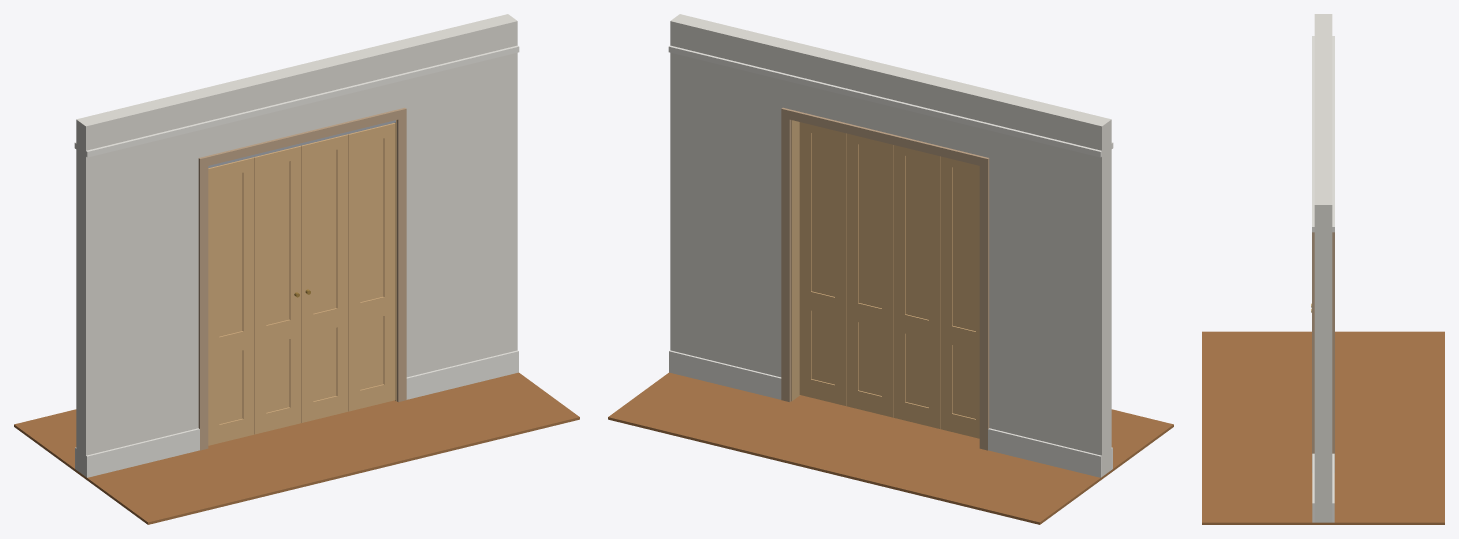
File: a-ymc4mn.glb
The picture shows the model from 3 angles, left to right: view 1: azimuth 30°, elevation 25°; view 2: azimuth 150°, elevation 25°; view 3: azimuth 270°, elevation 25°; orthographic projection. The views are drawn at different scales.
Visible parts, largest first — view 1: Room: Wall, Room: Floor, Door 4: Frame, Door 2: Frame, Door 3: Frame, Door 1: Frame, Door 1: Panel, top, Door 4: Panel, top, Door 2: Panel, top, Door 3: Panel, top, Room: Picture rail, front, Architrave, front right (+8 smaller); view 2: Room: Wall, Room: Floor, Door 4: Frame, Door 2: Frame, Door 3: Frame, Door 1: Frame, Door 1: Panel, top, Door 4: Panel, top, Door 2: Panel, top, Door 3: Panel, top, Room: Picture rail, back, Architrave, back right (+9 smaller); view 3: Room: Floor, Room: Wall, Architrave, front right, Architrave, back right, Room: Picture rail, front, Room: Picture rail, back.
Part boxes in pixels (x1=…): Room: Wall: x1=76, y1=14, x2=517, y2=476; Room: Floor: x1=14, y1=372, x2=579, y2=524; Door 4: Frame: x1=348, y1=123, x2=395, y2=411; Door 2: Frame: x1=254, y1=145, x2=301, y2=434; Door 3: Frame: x1=301, y1=134, x2=348, y2=422; Door 1: Frame: x1=208, y1=157, x2=254, y2=445; Door 1: Panel, top: x1=219, y1=172, x2=242, y2=336; Door 4: Panel, top: x1=360, y1=138, x2=383, y2=302; Door 2: Panel, top: x1=266, y1=161, x2=289, y2=324; Door 3: Panel, top: x1=313, y1=150, x2=336, y2=313; Room: Picture rail, front: x1=86, y1=45, x2=519, y2=157; Architrave, front right: x1=396, y1=117, x2=406, y2=402; Room: Wall: x1=670, y1=14, x2=1111, y2=476; Room: Floor: x1=608, y1=372, x2=1173, y2=524; Door 4: Frame: x1=799, y1=122, x2=846, y2=405; Door 2: Frame: x1=893, y1=145, x2=940, y2=428; Door 3: Frame: x1=846, y1=133, x2=893, y2=417; Door 1: Frame: x1=940, y1=156, x2=979, y2=438; Door 1: Panel, top: x1=952, y1=167, x2=975, y2=331; Door 4: Panel, top: x1=811, y1=133, x2=834, y2=296; Door 2: Panel, top: x1=905, y1=156, x2=928, y2=319; Door 3: Panel, top: x1=858, y1=144, x2=881, y2=308; Room: Picture rail, back: x1=668, y1=45, x2=1101, y2=157; Architrave, back right: x1=781, y1=117, x2=791, y2=402; Room: Floor: x1=1202, y1=331, x2=1444, y2=524; Room: Wall: x1=1314, y1=14, x2=1332, y2=522; Architrave, front right: x1=1312, y1=232, x2=1314, y2=472; Architrave, back right: x1=1332, y1=232, x2=1334, y2=472; Room: Picture rail, front: x1=1312, y1=36, x2=1314, y2=232; Room: Picture rail, back: x1=1332, y1=36, x2=1334, y2=232.
Bounding box in the file's own units: 3.61 × 2.82 × 1.94.
